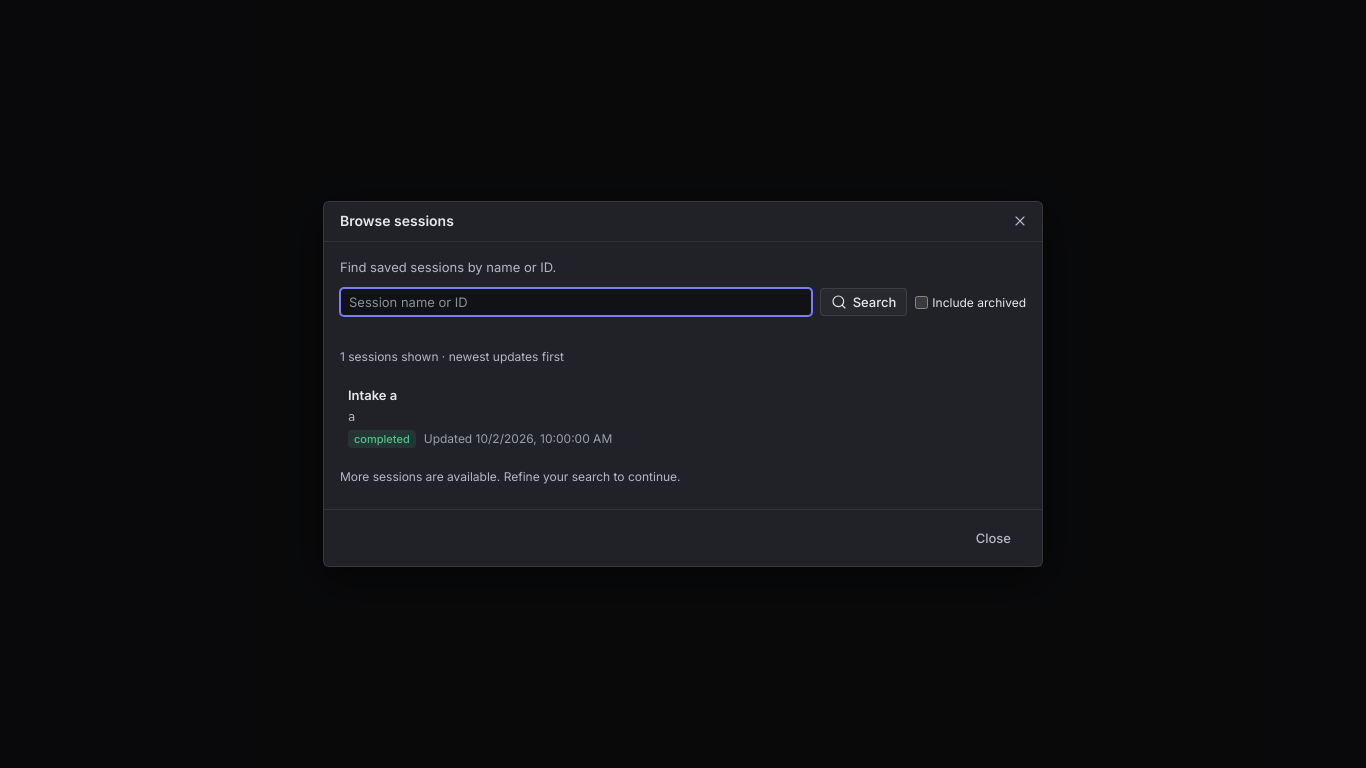
Test: SessionBrowser › explains the browse cap and exposes an honest empty search
Check: the text "More sessions are available. Refine your search to continue." is shown, box [340,469,680,484]
In the field named "Search sessions": [576, 302] box [340,288,812,316], type "missing"
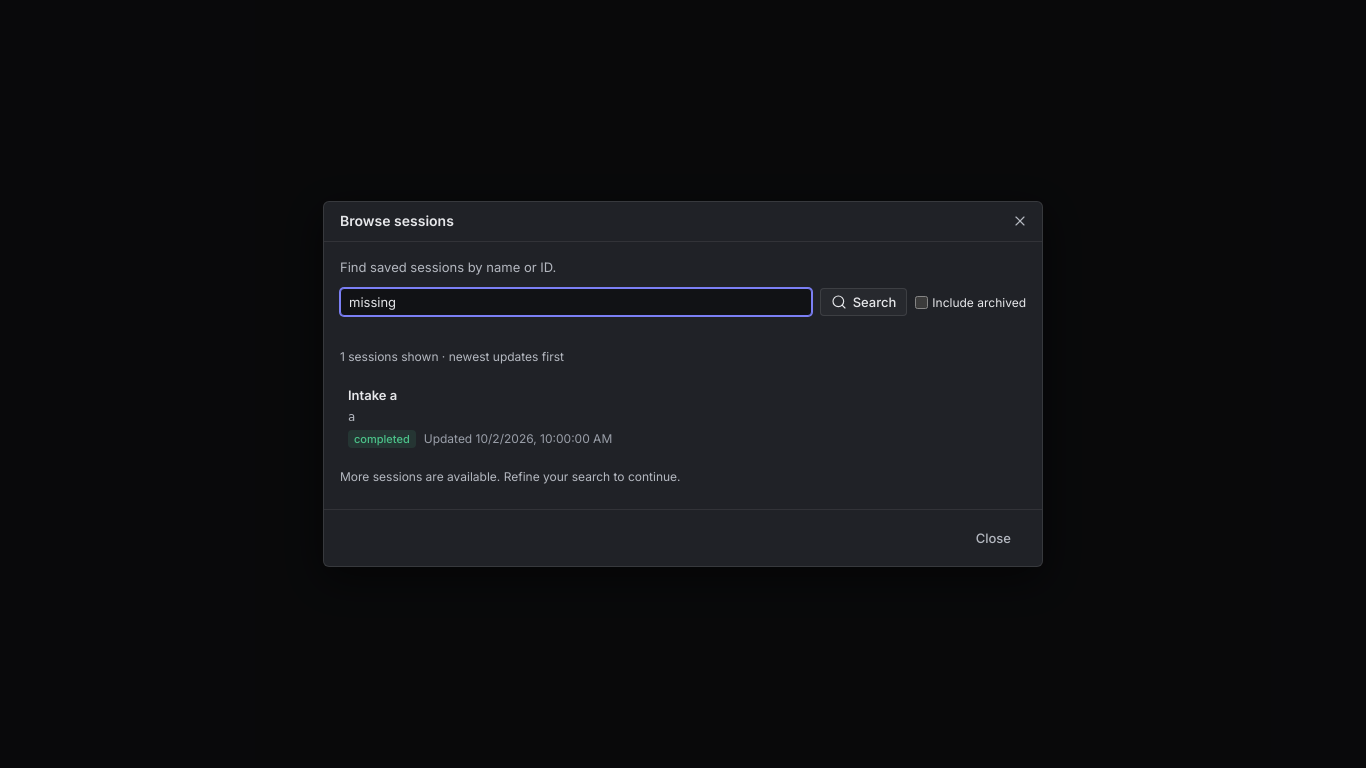
Click the button "Search": [864, 302] box [820,288,907,316]
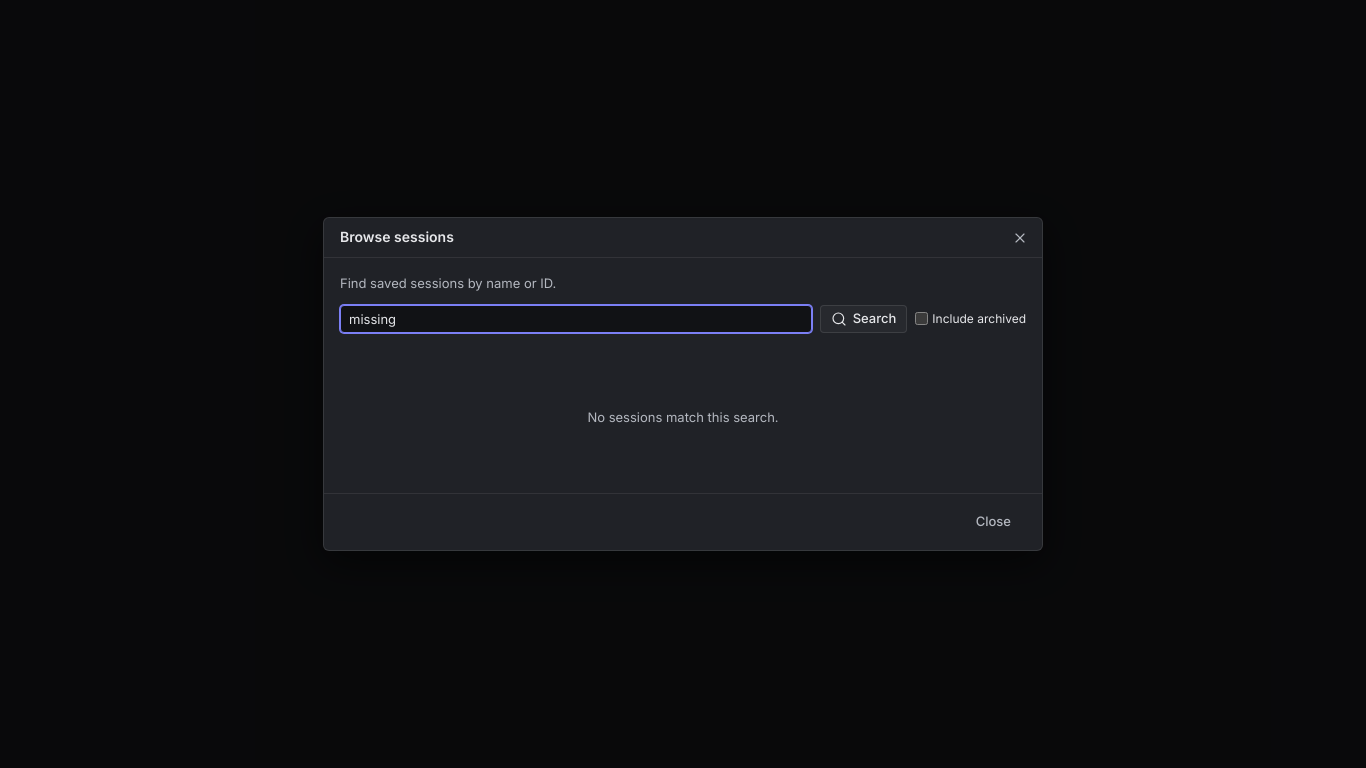
Check: the text "No sessions match this search." is shown, box [587,408,779,426]
